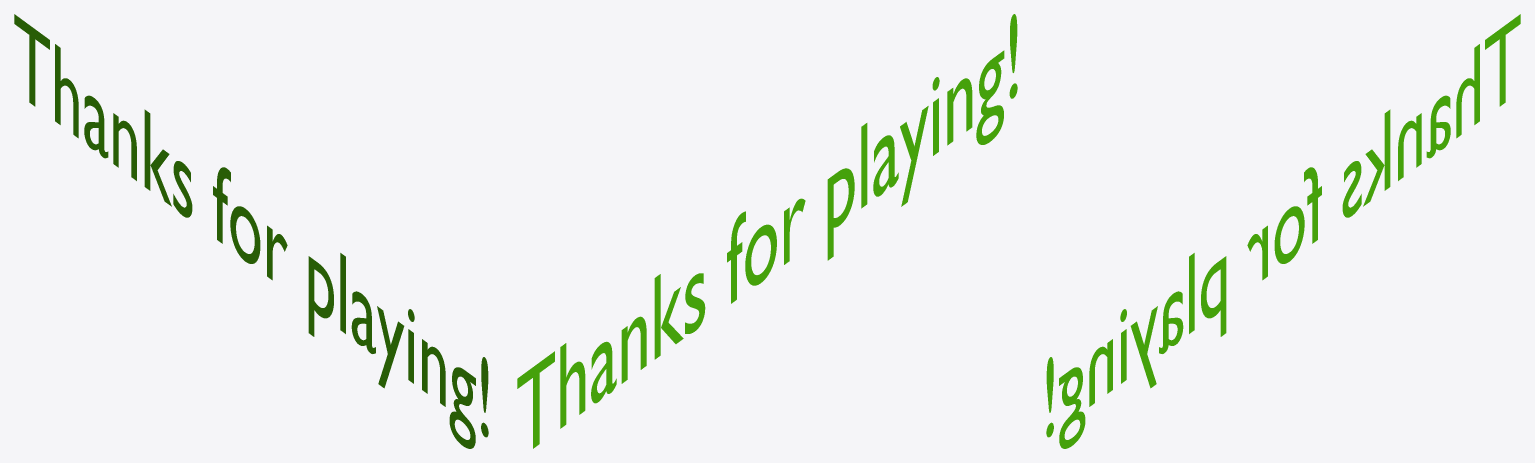
The model's file is thanks-1aIVrdlr.glb.
The picture shows the model from 3 angles, left to right: view 1: azimuth 30°, elevation 25°; view 2: azimuth 150°, elevation 25°; view 3: azimuth 330°, elevation 25°; orthographic projection. The views are drawn at different scales.
Visible parts, largest first — view 1: Text_X; view 2: Text_X; view 3: Text_X.
Boxes of the visible parts, box(x1,y1,x2,y2) form: Text_X: box(14, 14, 488, 448); Text_X: box(517, 14, 1017, 448); Text_X: box(1046, 14, 1520, 448).
Bounding box in the file's own units: 0 × 0.9214 × 7.56.
